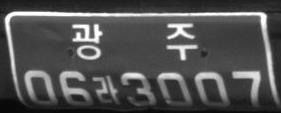0: (194, 70, 231, 107), (158, 71, 193, 106), (23, 69, 57, 104)
3: (119, 71, 157, 106)
6: (58, 69, 93, 106)
7: (231, 69, 262, 107)
광주_D: (71, 22, 198, 60)
라: (94, 75, 117, 105)
